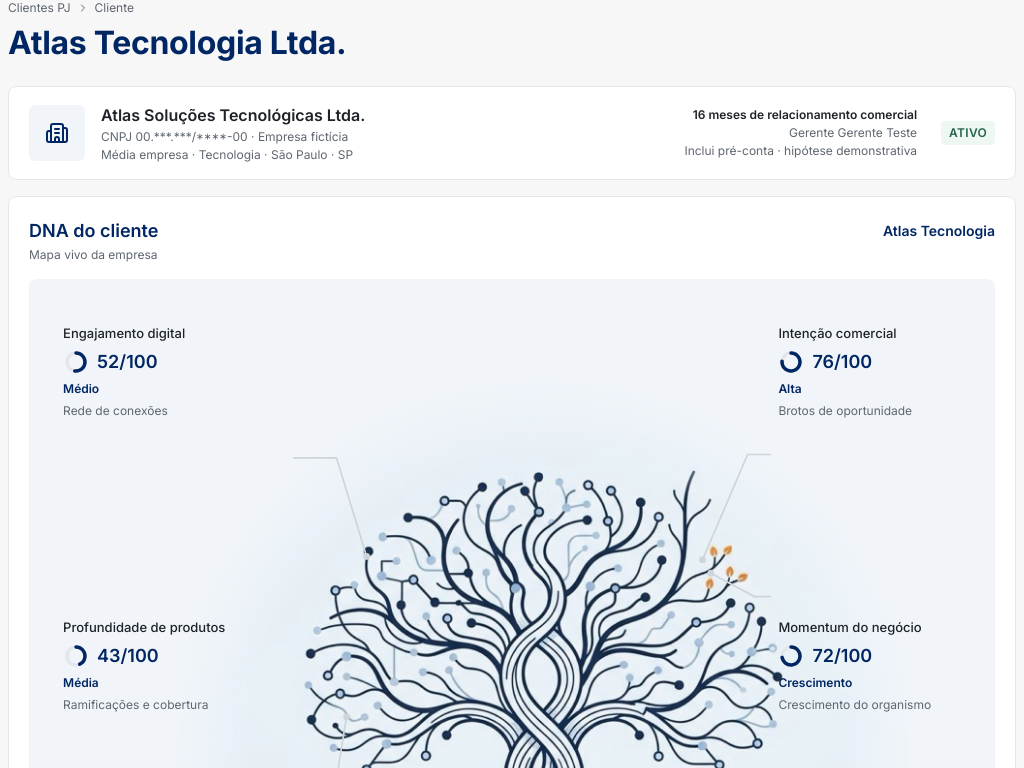
Test case: CustomerDetailPage › opens the DNA drivers and the recommendation explanation drawers
The width and height of the screenshot is (1024, 768).
Click the button with aria-label "Intenção comercial: " at (895, 372), box [774, 321, 1016, 424]
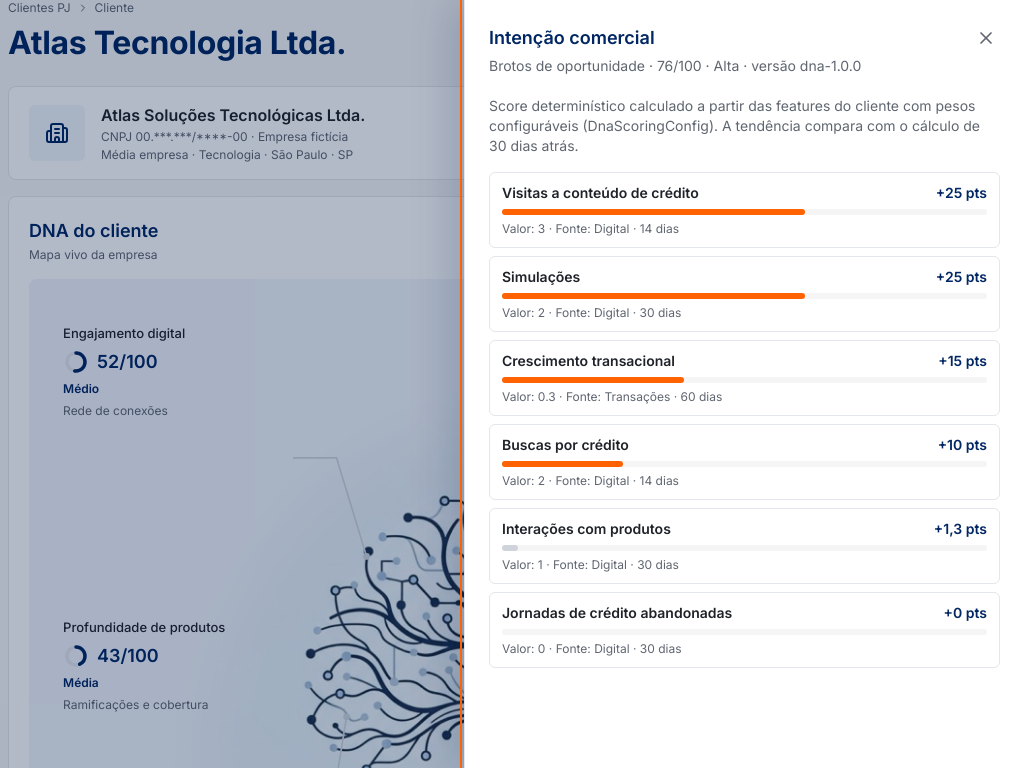
Result: the dialog "Intenção comercial" is shown at [464, 0, 1023, 767]
Press Escape
(page scrolled)
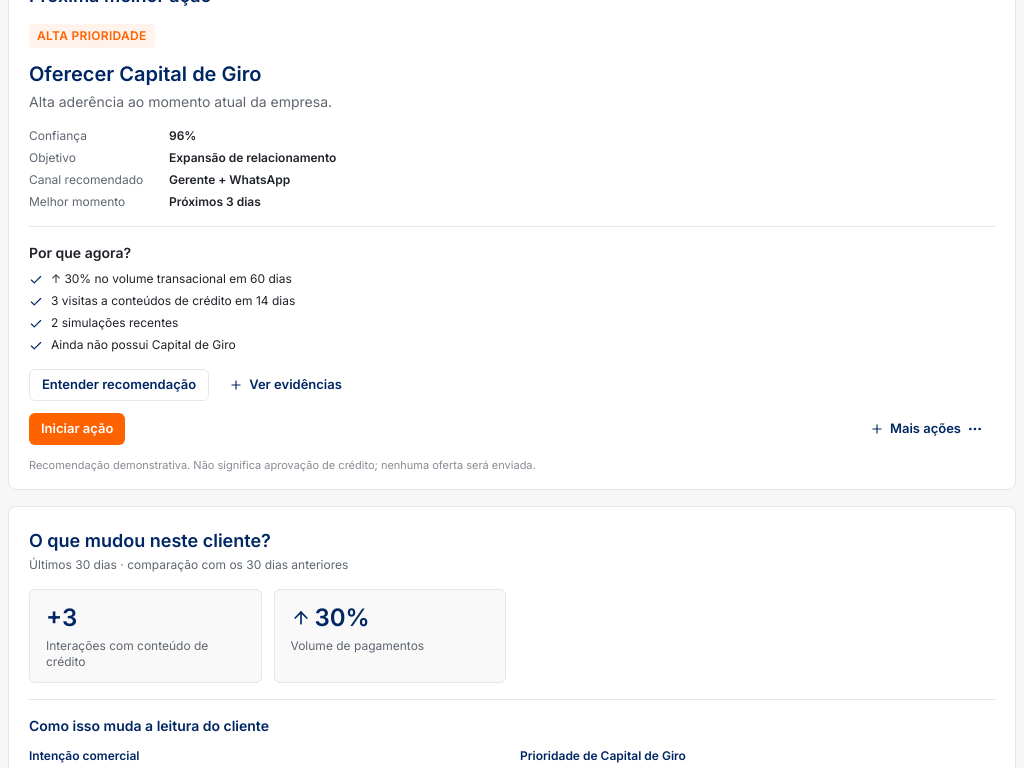
Click the button "Entender recomendação" at (119, 385), box [29, 369, 209, 401]
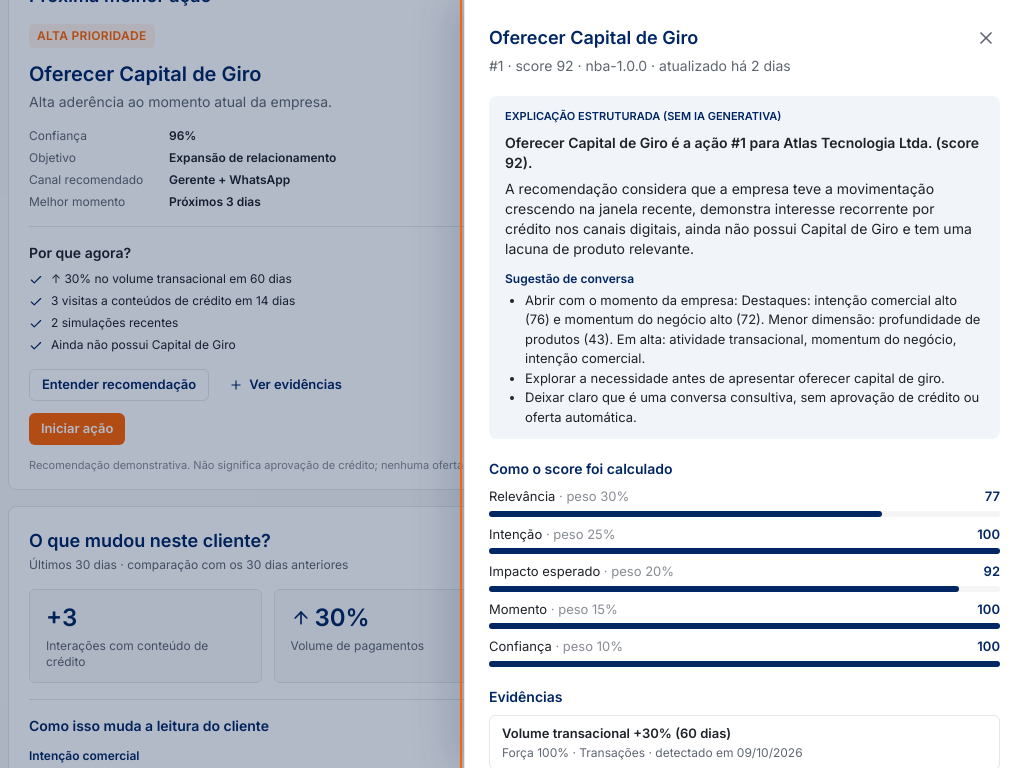
Result: the text "Explicação estruturada (sem IA generativa)" is shown at [505, 109, 781, 123]
Result: the heading "Como o score foi calculado" is shown at [489, 460, 672, 477]
